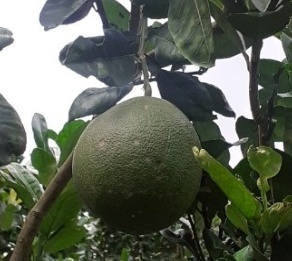Buoi: (72, 92, 205, 238)
